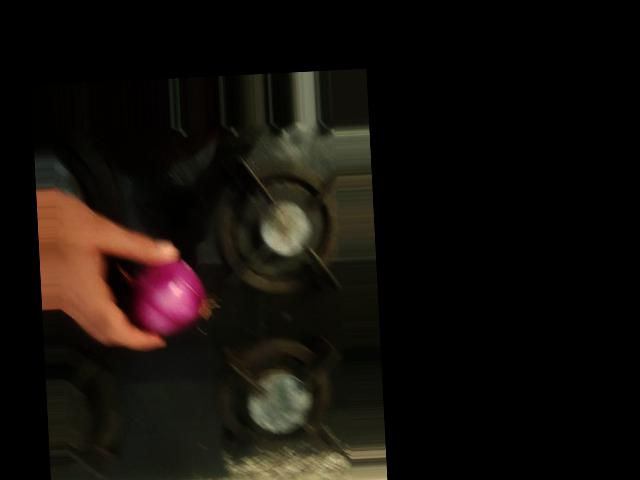onion: (119, 254, 208, 342)
